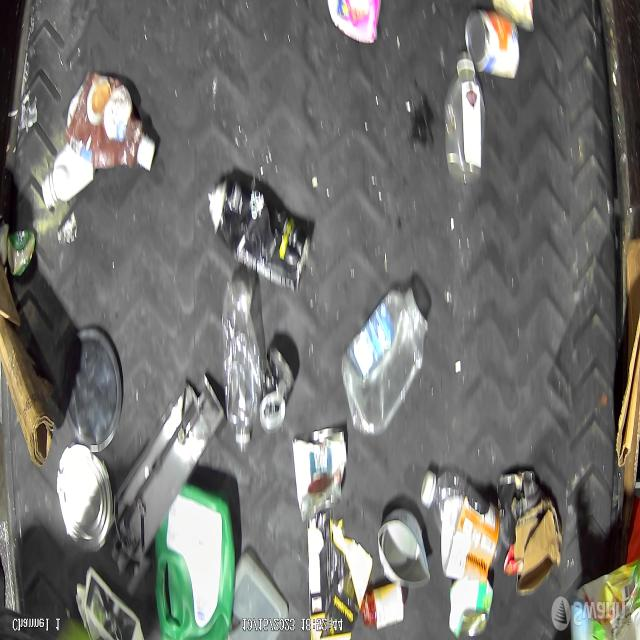can: (208, 176, 309, 293), (57, 444, 114, 552), (292, 428, 346, 522), (378, 506, 431, 587), (465, 8, 520, 80), (259, 347, 295, 433), (449, 583, 495, 637), (7, 230, 36, 278)
non_white_jug: (155, 483, 235, 640)
plastic_bottle: (341, 288, 428, 436), (64, 70, 158, 174), (421, 470, 503, 570), (222, 277, 260, 452), (444, 52, 486, 183)
